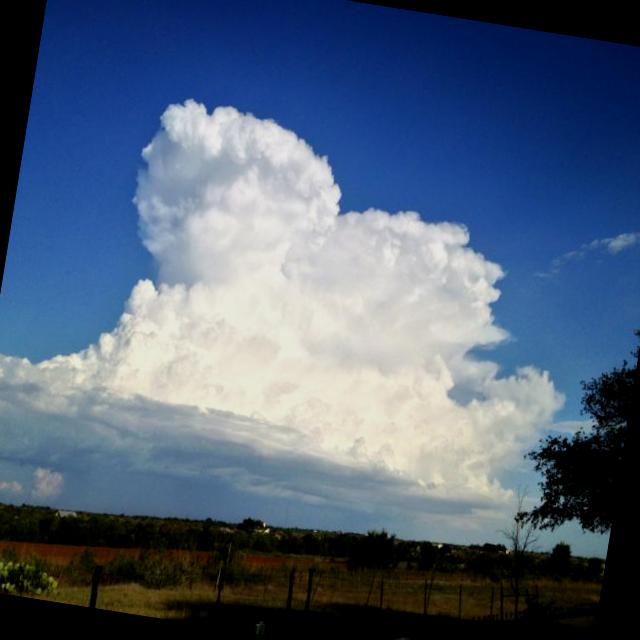cumulonimbus: (0, 52, 561, 504)
